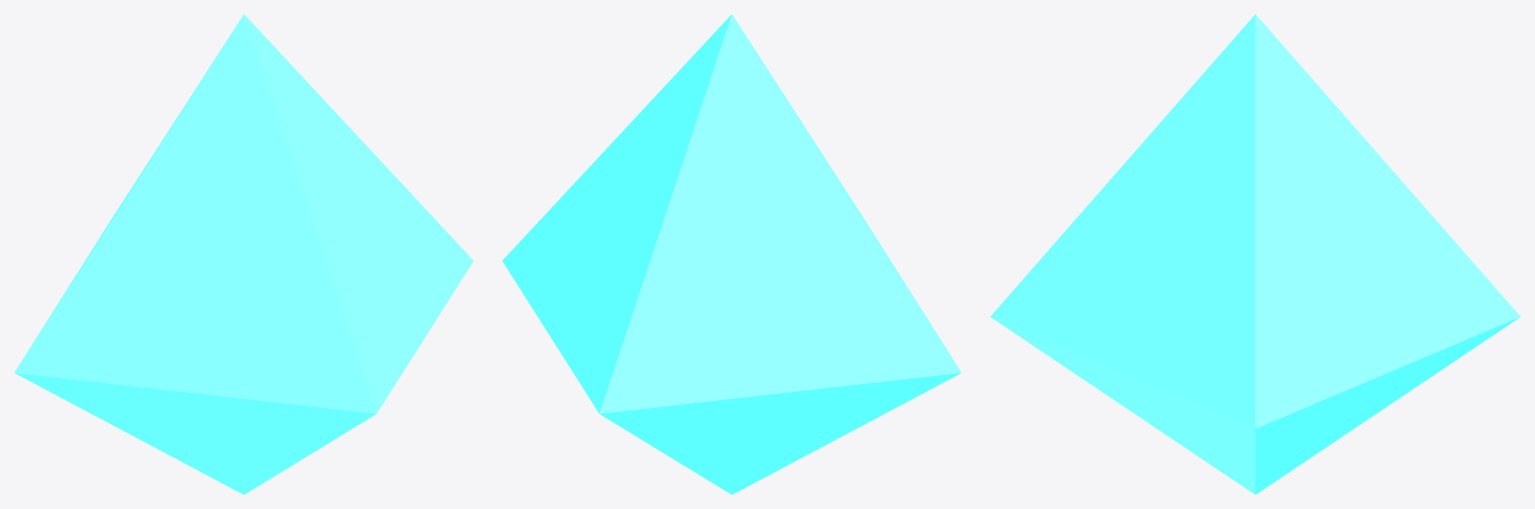
Rendered from crystal.glb.
The picture shows the model from 3 angles, left to right: view 1: azimuth 30°, elevation 25°; view 2: azimuth 150°, elevation 25°; view 3: azimuth 270°, elevation 25°; orthographic projection.
Visible parts, largest first — view 1: CrystalUpper, CrystalLower; view 2: CrystalUpper, CrystalLower; view 3: CrystalUpper, CrystalLower.
Part boxes in pixels (x1,y1,x2,y2): CrystalUpper: (14, 14, 473, 413); CrystalLower: (15, 373, 375, 494); CrystalUpper: (502, 14, 961, 413); CrystalLower: (600, 373, 960, 494); CrystalUpper: (990, 14, 1520, 428); CrystalLower: (991, 317, 1519, 494).
Size of the model in its own units: 0.54 by 0.54 by 0.54.
